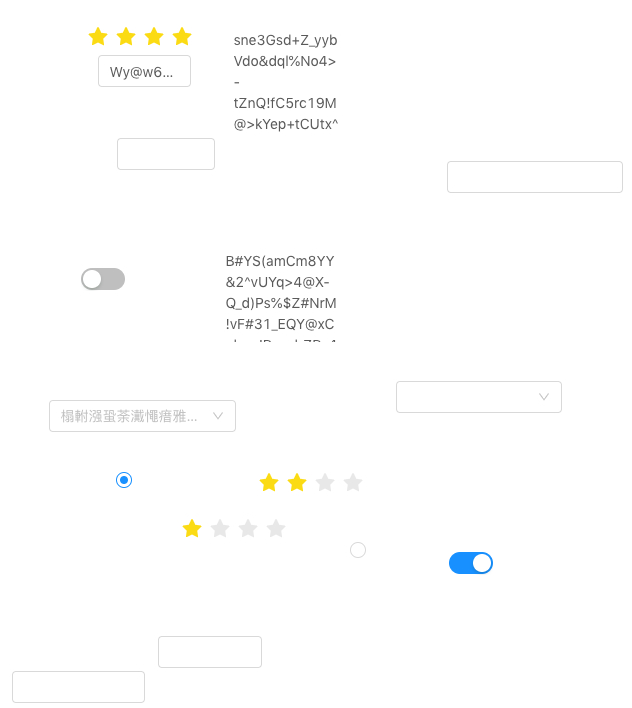Input: (447, 161, 623, 193), (12, 671, 145, 703), (158, 636, 262, 668), (117, 138, 215, 170), (98, 55, 191, 87)
Radio: (350, 539, 366, 559), (116, 469, 132, 489)
Rate: (182, 512, 302, 544), (259, 466, 379, 498), (88, 20, 208, 52)
Select: (49, 400, 236, 432), (396, 381, 562, 413)
Switch: (449, 551, 493, 575), (81, 267, 125, 291)
Text: (234, 29, 339, 135), (226, 250, 341, 342)
